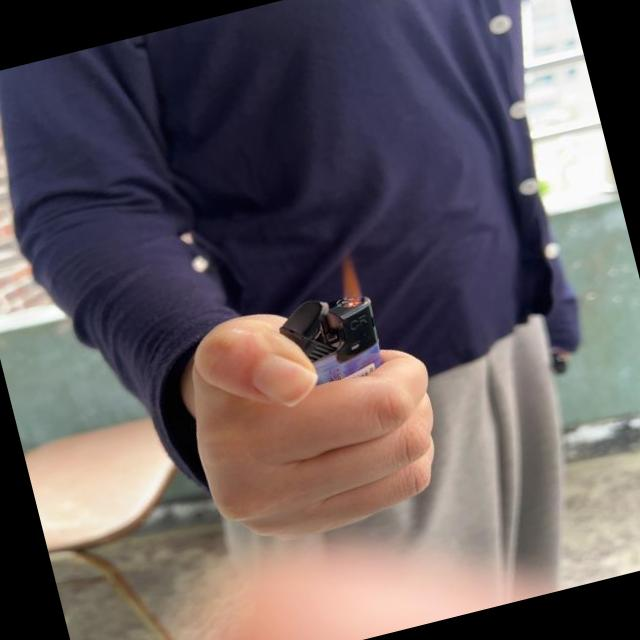Fire: (329, 248, 367, 308)
